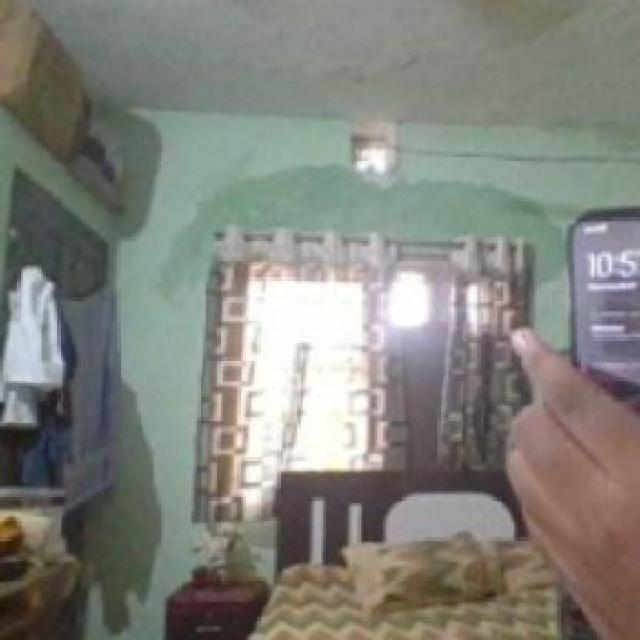Phone: (568, 207, 640, 402)
